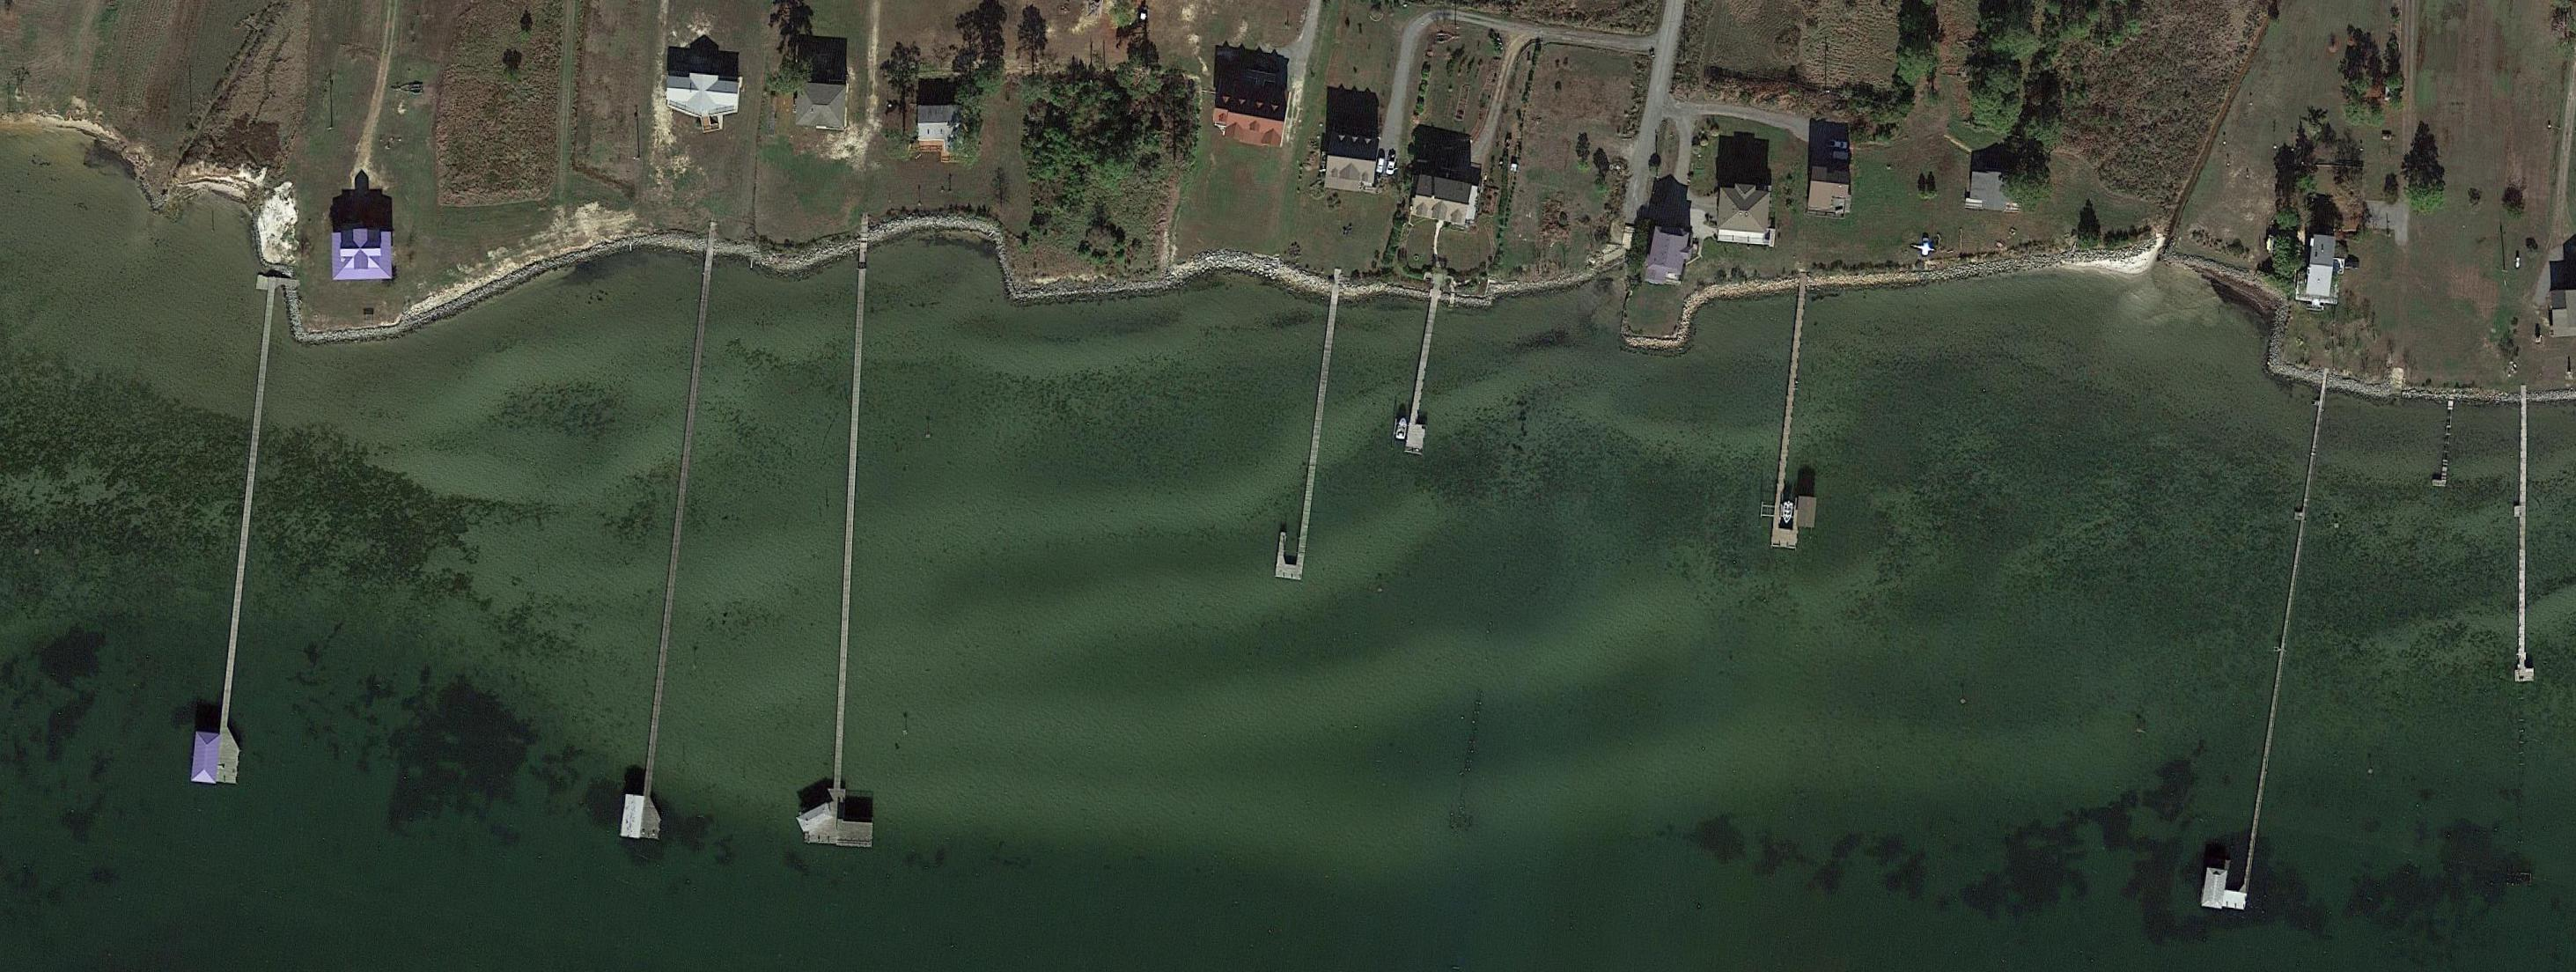harbor: (2200, 435, 2321, 915), (795, 327, 904, 847), (619, 351, 718, 841), (191, 317, 286, 786), (1771, 305, 1840, 552), (1273, 330, 1336, 581), (1403, 305, 1451, 456), (2514, 410, 2537, 683)
ship: (1395, 417, 1408, 442), (1782, 501, 1794, 524)
